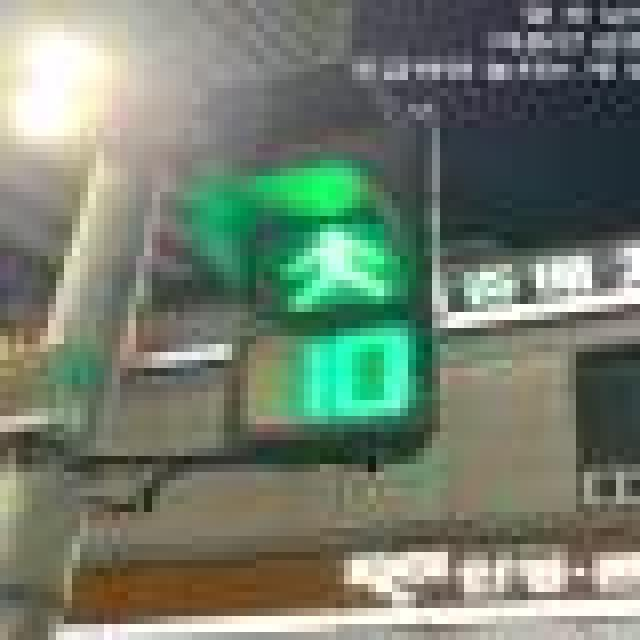greenlight: (235, 108, 424, 331)
